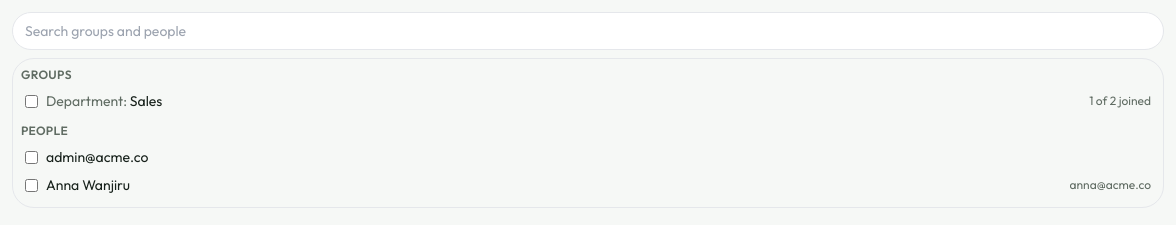
Test: InvitePicker › search narrows the lists
The width and height of the screenshot is (1176, 225).
Type "admin" into the search field labelled "Search groups and people" at (588, 31), box [12,12,1164,50]
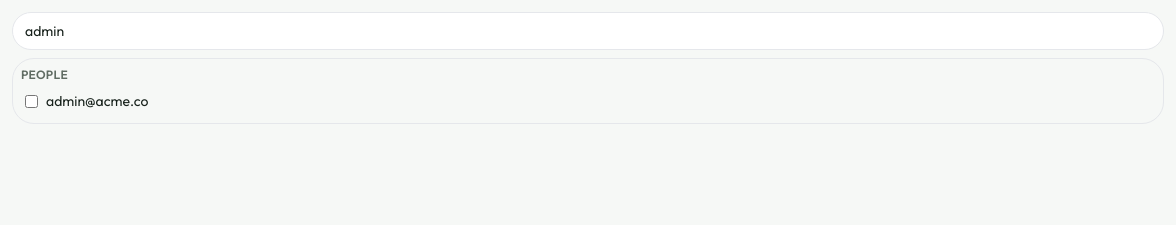
Expected: the text "admin@acme.co" is shown, [46,92,148,110]
Expected: the text "Anna Wanjiru" is gone
Expected: the text "Sales" is gone
